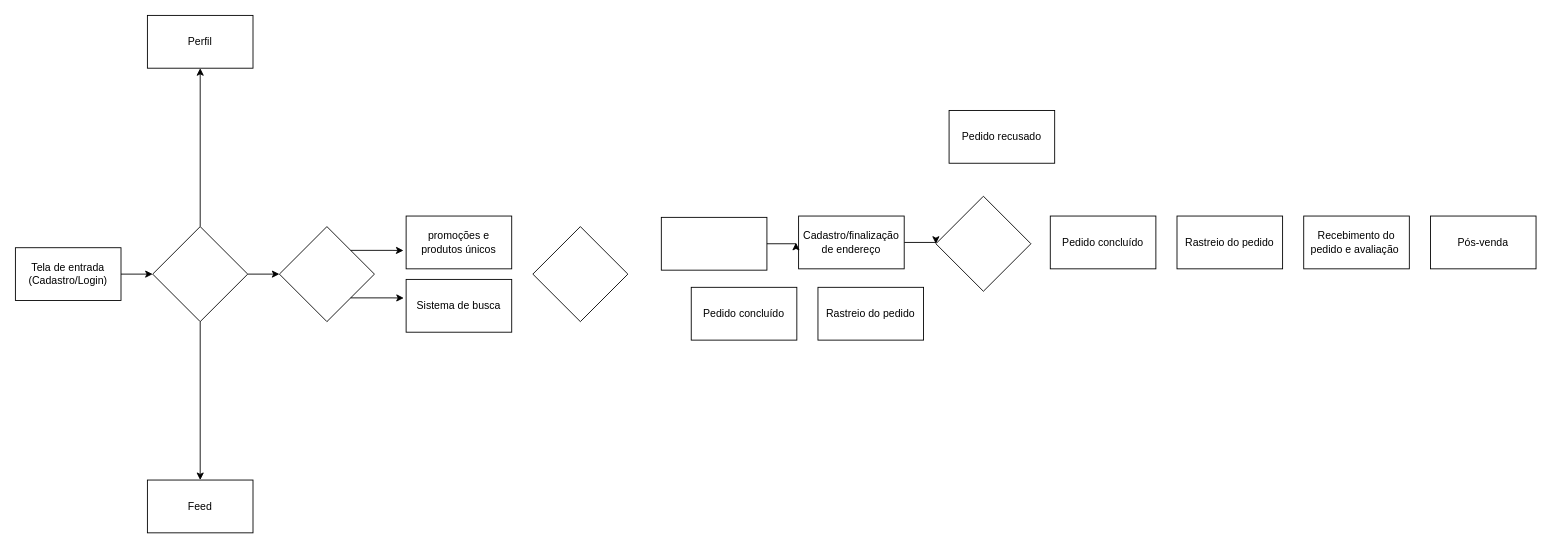
Some shapes in this 1551 by 548 pixel diagram are drawn without their labels. The centre of each missing label's shape, as x and y in pixels:
Cadastro/finalização de pegamento: the point at 983,243
Carrinho: the point at 713,243
Pagamento: the point at 580,274
Produtos: the point at 326,274
Tela inicial: the point at 200,274
